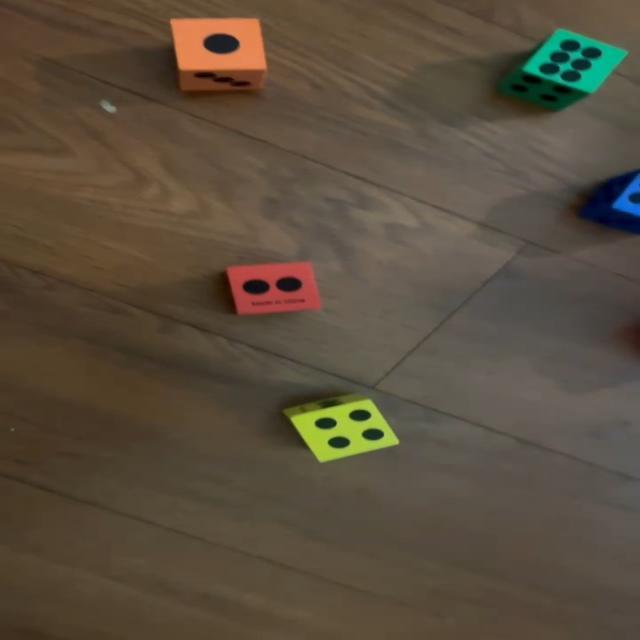blue_block: (580, 168, 640, 236)
red_block: (222, 262, 322, 319)
